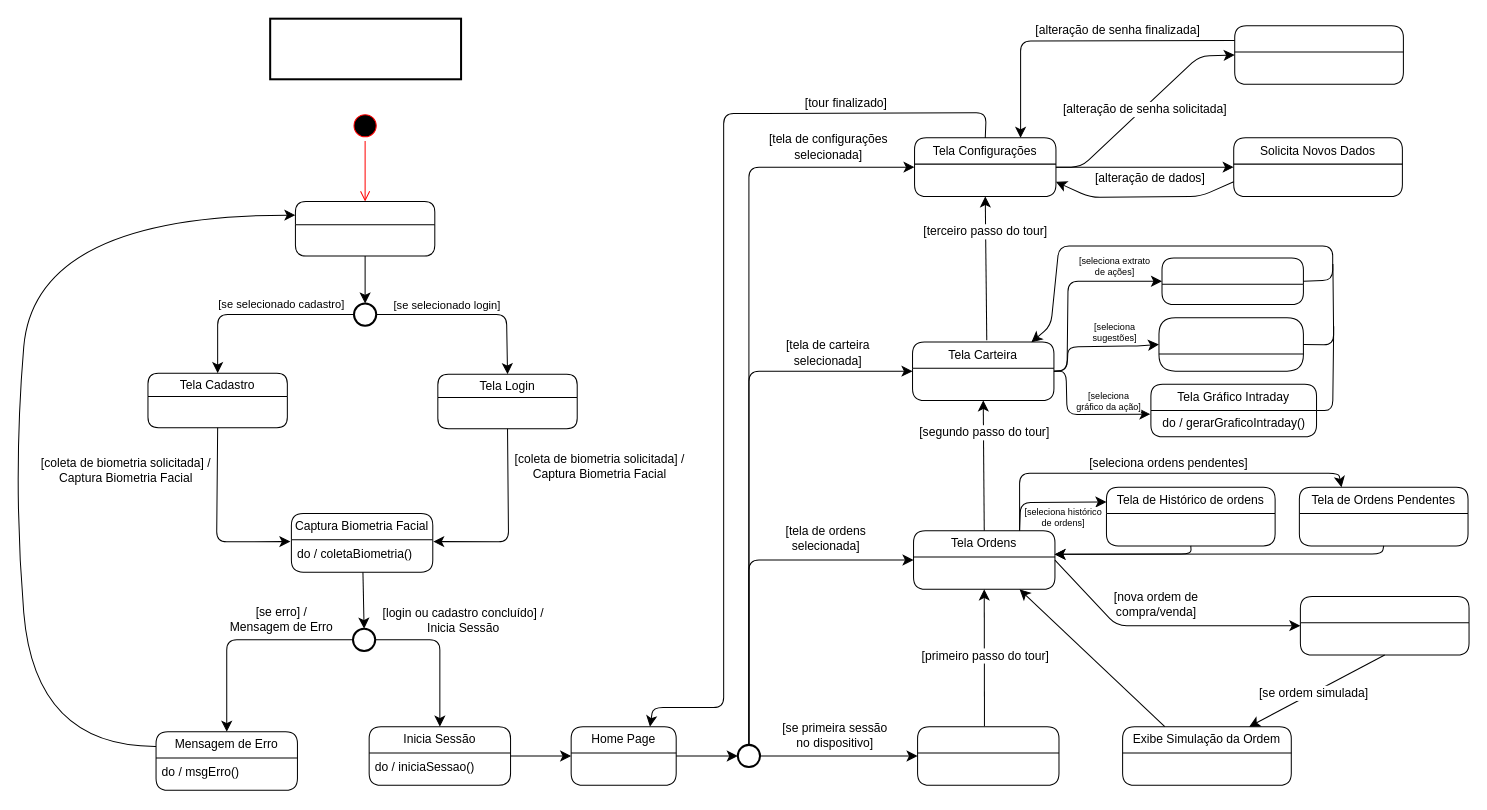
This 1487x810 diagram has some shape labels left out. Here are the shapes that lost their labels. From the top down, the centre of each, then its label:
At pixel 365 48: "Classe Interface".
At pixel 1318 54: "Solicita Senha Atual e Nova".
At pixel 364 228: "Tela Login / Cadastro".
At pixel 1232 281: "Tela Extrato de Ações".
At pixel 1230 344: "Tela Sugestões de Compra e Venda".
At pixel 1384 625: "Coleta Dados da Ordem".
At pixel 988 755: "Inicia Tour".
